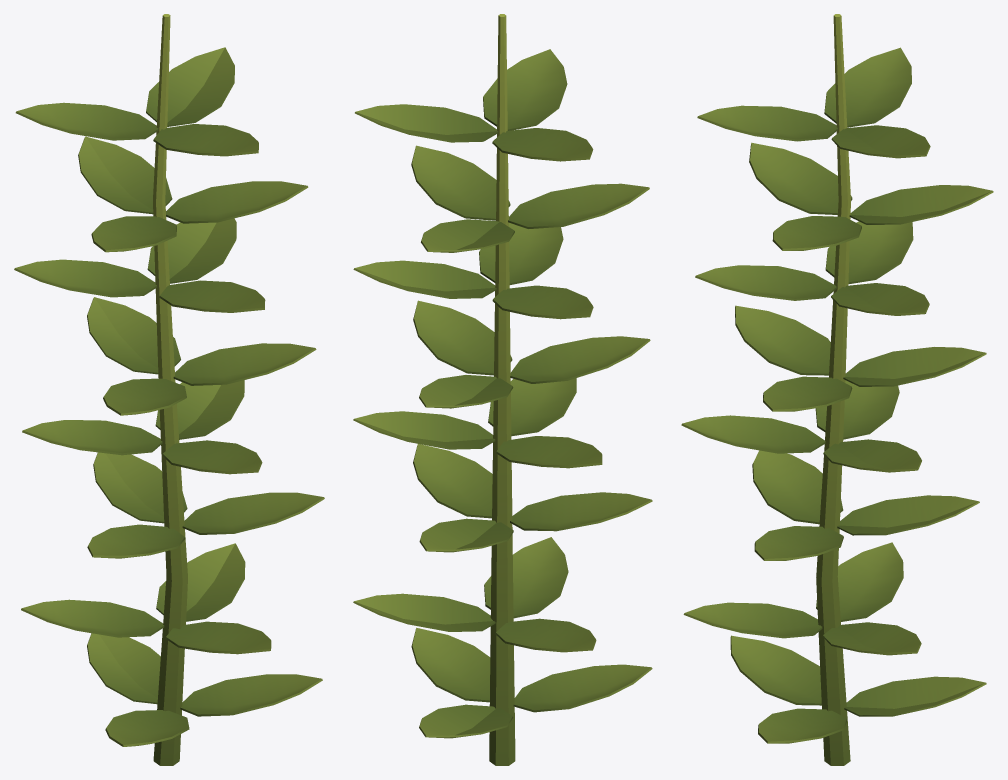
File: Seaweed_01.fbx
The picture shows the model from 3 angles, left to right: view 1: azimuth 30°, elevation 25°; view 2: azimuth 150°, elevation 25°; view 3: azimuth 270°, elevation 25°; orthographic projection.
Visible parts, largest first — view 1: Seaweed_01_LOD0; view 2: Seaweed_01_LOD0; view 3: Seaweed_01_LOD0.
Boxes of the visible parts, x1,y1,x2,y2 form: Seaweed_01_LOD0: [14, 14, 324, 765]; Seaweed_01_LOD0: [353, 14, 652, 765]; Seaweed_01_LOD0: [681, 14, 993, 765].
Size of what is drawn, in the model's own units: 0.3365 by 0.9827 by 0.3731.
